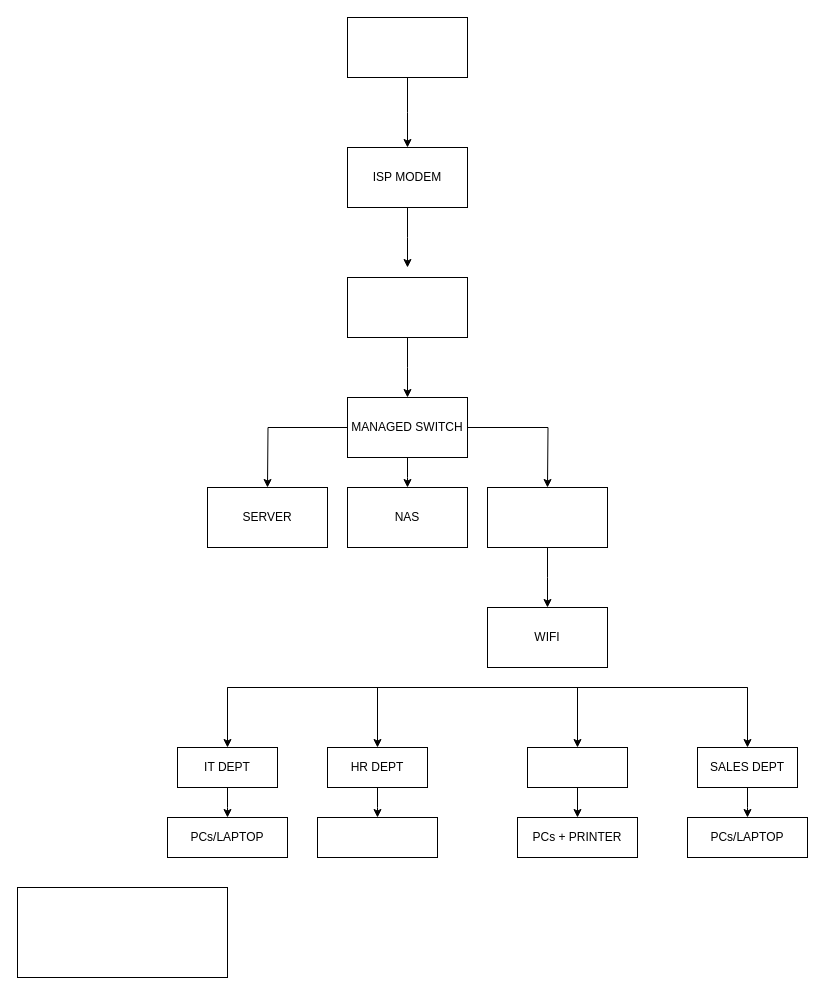
The diagram is 825 pixels wide and 995 high, and some of its shapes have lost their labels. The shapes that lost their labels are listed below. From the top down, each one's box as (x1, y1, x2, y2) in pixels, then its label:
(346, 16, 468, 78): INTERNET
(346, 276, 468, 338): ROUTER
(486, 486, 608, 548): ACCESS POINT
(526, 746, 628, 788): FINANCE
(316, 816, 438, 858): PCs
(16, 886, 228, 978): Prepared by: Timothy Kyl Q. Balbieran
